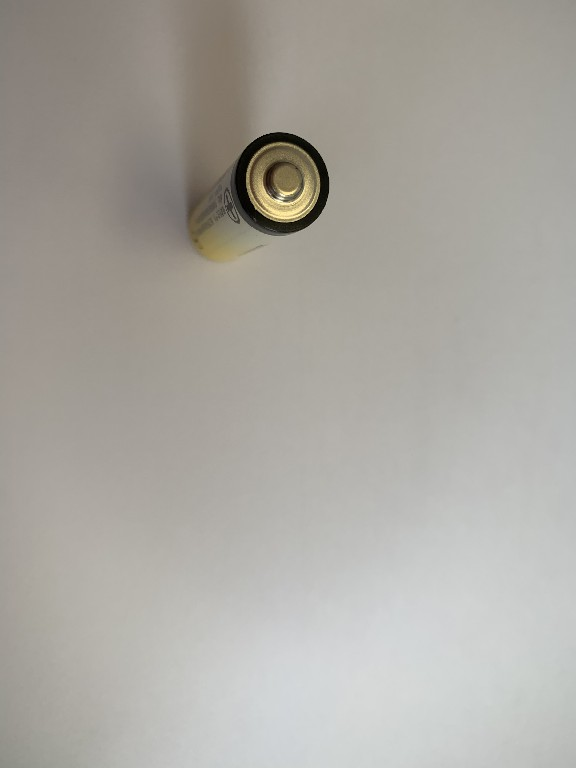charge: (184, 128, 331, 270)
